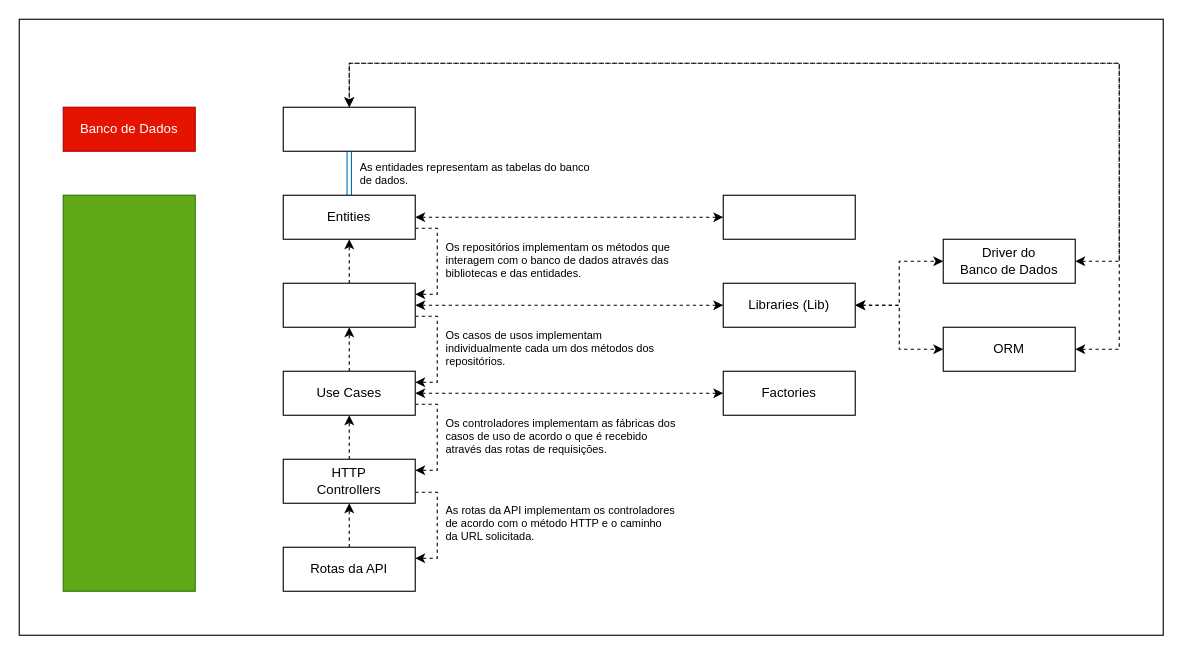
This 1183x655 diagram has some shape labels left out. Here are the shapes that lost their labels. From the top down, the box of each, then its label:
(282, 106, 415, 151): Tabelas do Banco de Dados
(722, 194, 855, 239): Models
(282, 282, 415, 327): Repositories
(62, 194, 195, 591): Aplicação
